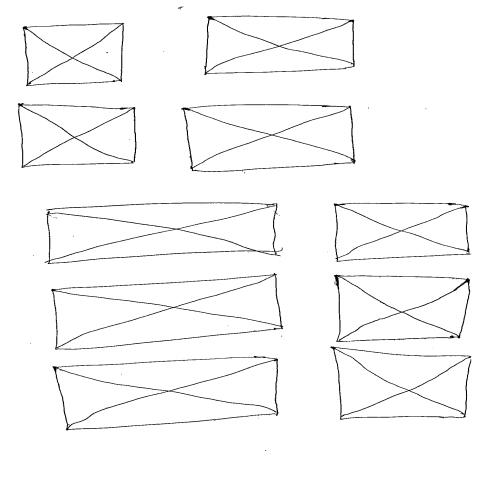Image: (52, 275, 284, 351), (53, 357, 280, 432), (47, 203, 279, 265), (182, 105, 357, 174), (331, 347, 473, 421), (335, 275, 471, 343), (204, 16, 357, 76), (335, 203, 471, 263), (18, 105, 139, 170), (24, 23, 126, 88)
